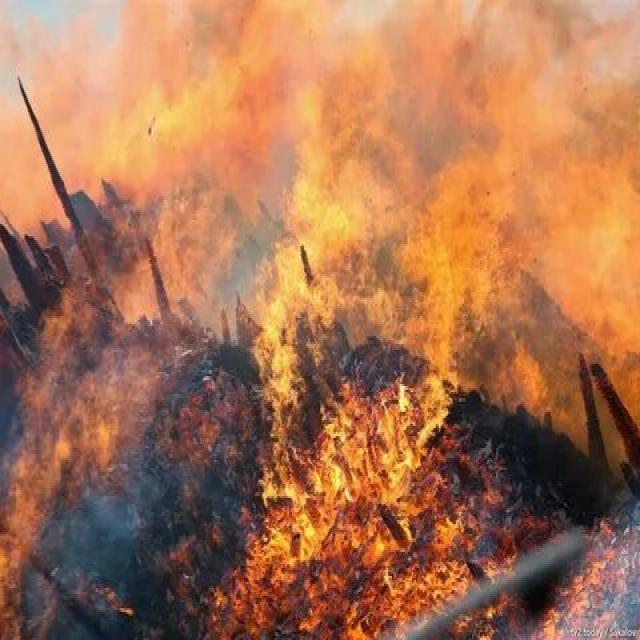Fire: (185, 216, 640, 640)
